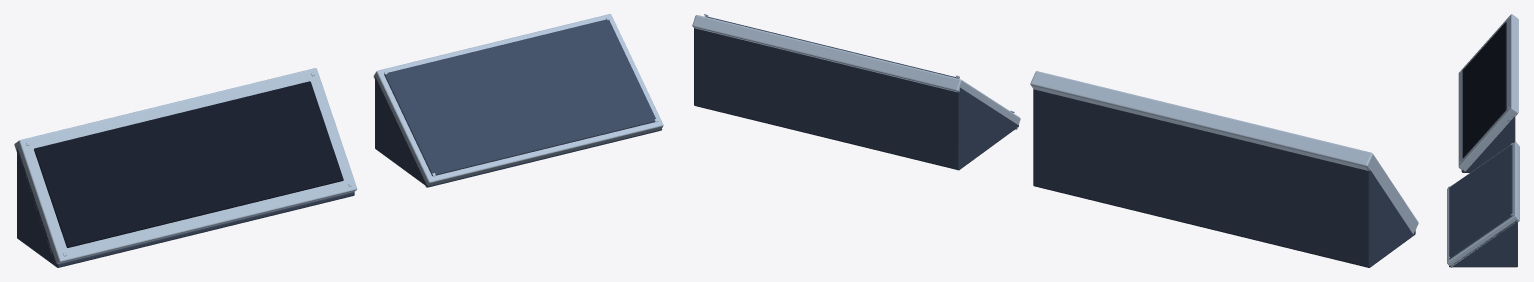
The model's file is midnight-pupitres.glb.
3 renders of one model, left to right at view 1: azimuth 30°, elevation 25°; view 2: azimuth 150°, elevation 25°; view 3: azimuth 270°, elevation 25°, orthographic. The views are drawn at different scales.
Parts seen in each view (by area): view 1: Pupitres_Cockpit; view 2: Pupitres_Cockpit; view 3: Pupitres_Cockpit.
Part boxes in pixels (x1,y1,x2,y2): Pupitres_Cockpit: (14,14,663,267); Pupitres_Cockpit: (692,14,1418,267); Pupitres_Cockpit: (1447,14,1519,267).
Size of the model in its own units: 7.1 by 1.15 by 1.16.
